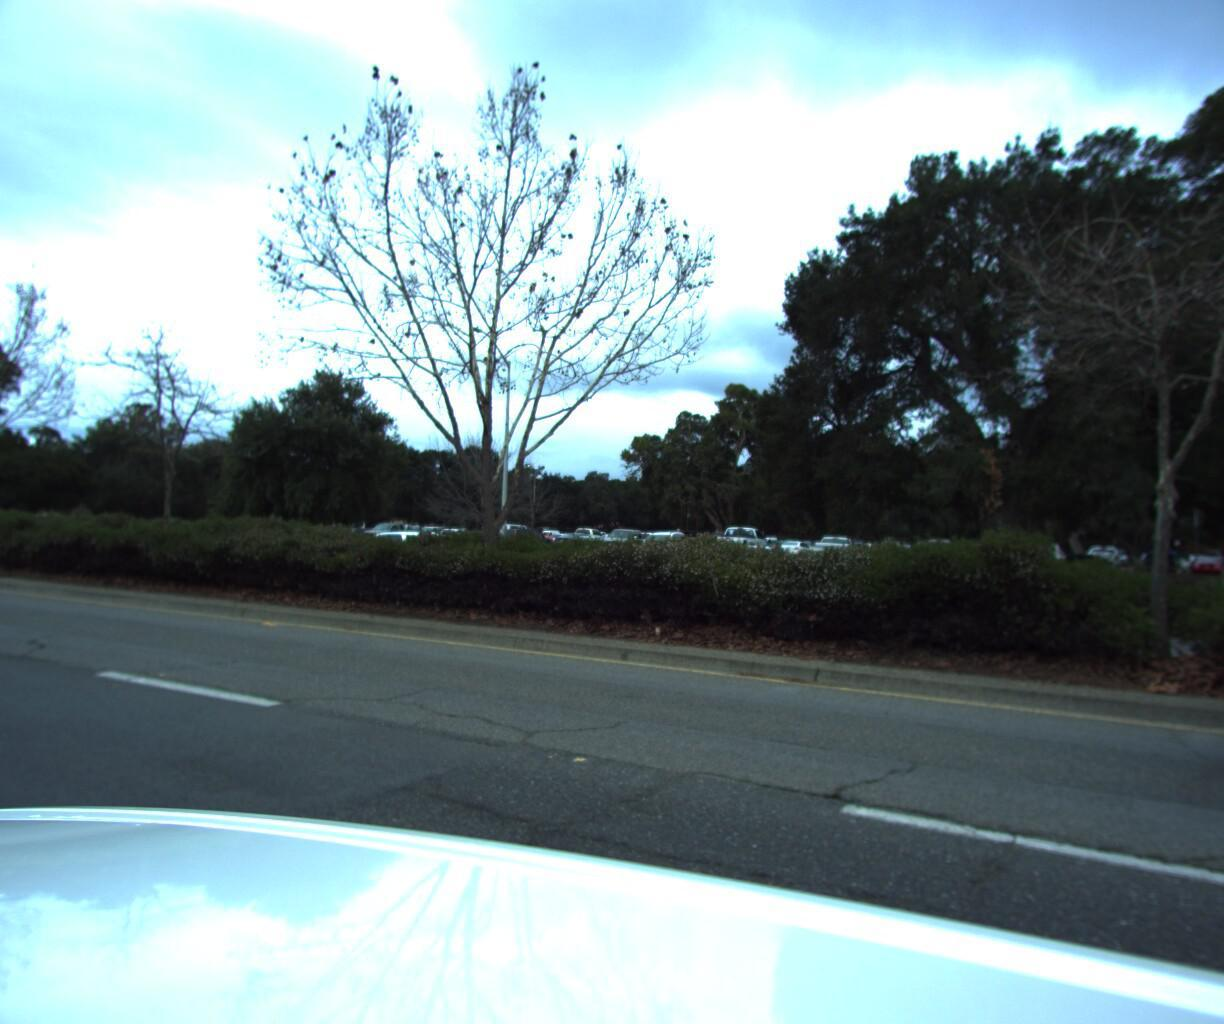car: (660, 536, 793, 586), (348, 522, 461, 561)
